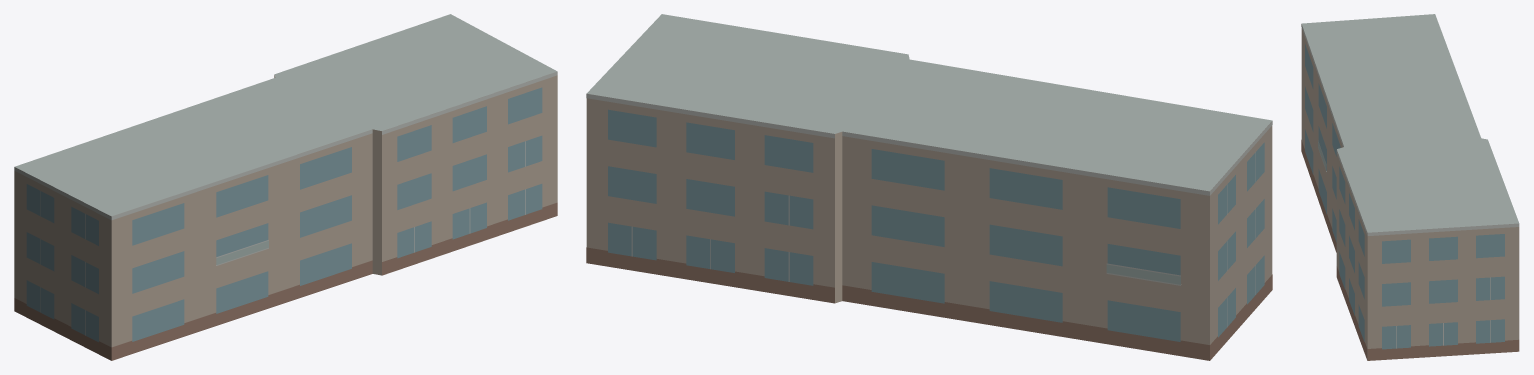
File: survey-upis-32980335.glb
The picture shows the model from 3 angles, left to right: view 1: azimuth 30°, elevation 25°; view 2: azimuth 150°, elevation 25°; view 3: azimuth 270°, elevation 25°; orthographic projection. The views are drawn at different scales.
Parts seen in each view (by area): view 1: survey-upis-32980335.tmp; view 2: survey-upis-32980335.tmp; view 3: survey-upis-32980335.tmp.
Part boxes in pixels (box(x1,y1,x2,y2)): survey-upis-32980335.tmp: box(14, 14, 557, 360); survey-upis-32980335.tmp: box(586, 14, 1272, 360); survey-upis-32980335.tmp: box(1301, 14, 1519, 360).
Bounding box in the file's own units: 33.5 × 9.15 × 14.11.
